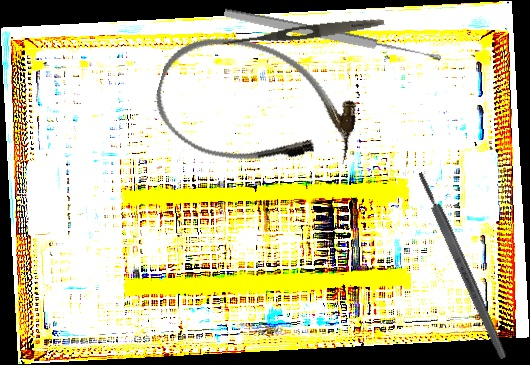Cannula: (144, 20, 369, 192)
Dressing Forceps: (220, 14, 386, 52)
Scalpel Handle: (415, 170, 509, 361)
Surgical Spoon: (223, 6, 442, 65)
